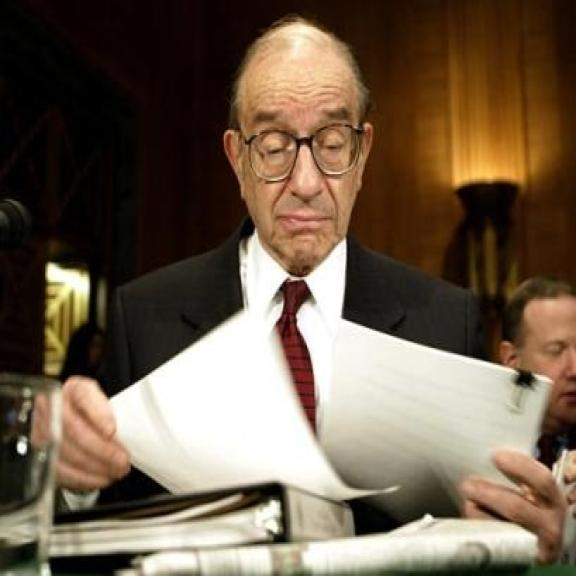face: (221, 84, 375, 276), (495, 295, 576, 421)
